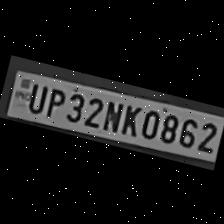0: (136, 102, 162, 140)
2: (80, 91, 106, 128), (194, 116, 220, 153)
3: (60, 86, 86, 123)
6: (174, 111, 200, 148)
8: (156, 108, 181, 144)
K: (116, 99, 142, 136)
N: (101, 96, 125, 132)
P: (42, 82, 67, 118)
U: (22, 78, 47, 114)
